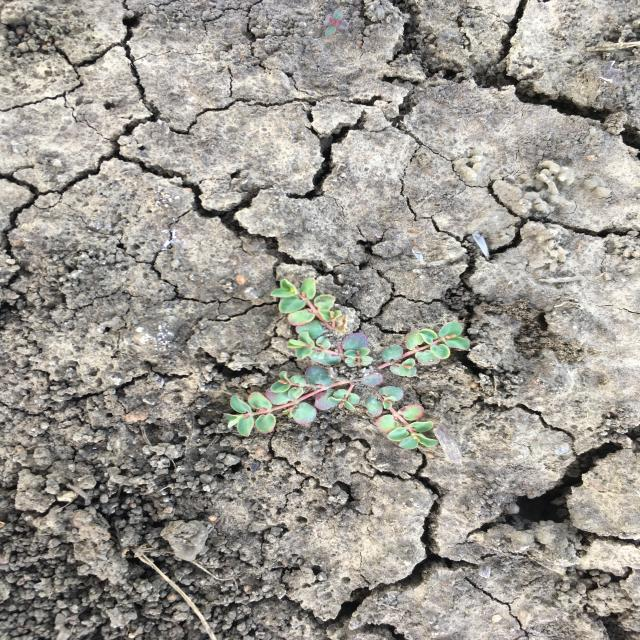SpottedSpurge: (222, 276, 473, 453)
